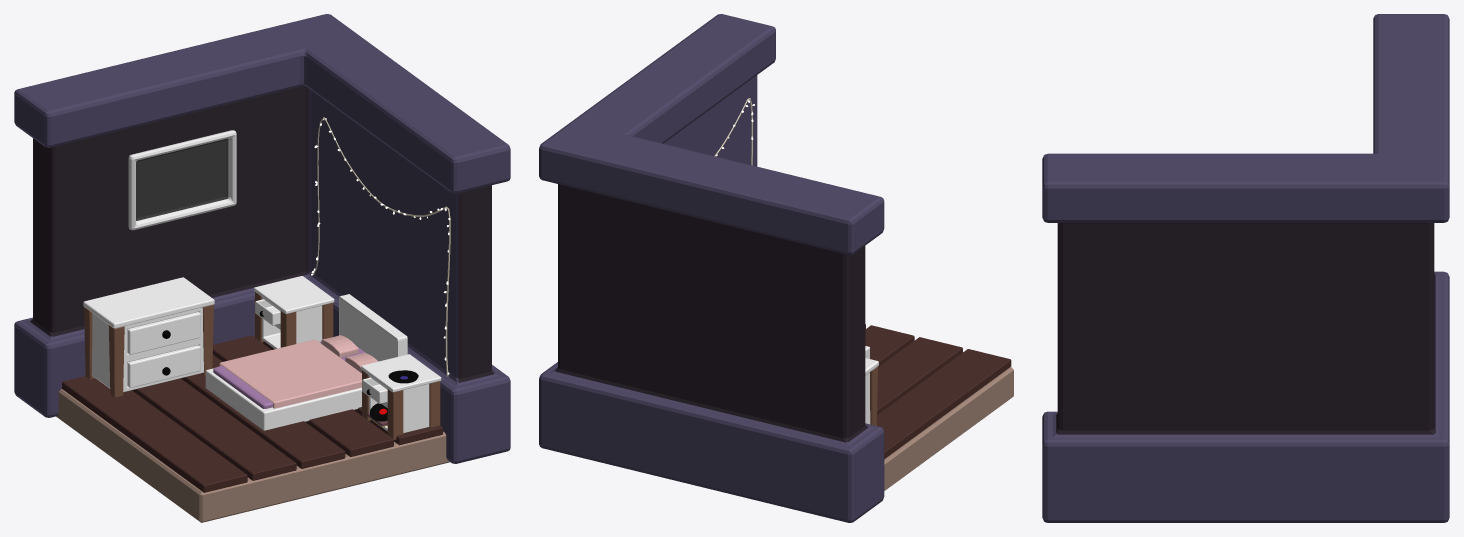
Rendered from gioRoomLight.glb.
3 renders of one model, left to right at view 1: azimuth 30°, elevation 25°; view 2: azimuth 150°, elevation 25°; view 3: azimuth 270°, elevation 25°, orthographic. The views are drawn at different scales.
Visible parts, largest first — view 1: Cube, Plane.001, Plane, Plane.015, Cube.001, Plane.005, Plane.012, Plane.010, Plane.004, Plane.003, Plane.016, Plane.011 (+3 smaller); view 2: Cube, Plane.001, Plane; view 3: Cube.
Part boxes in pixels (box(x1,y1,x2,y2)): Cube: box(14, 14, 510, 463); Plane.001: box(62, 335, 442, 492); Plane: box(56, 389, 449, 522); Plane.015: box(83, 277, 214, 392); Cube.001: box(128, 130, 236, 230); Plane.005: box(219, 339, 361, 408); Plane.012: box(254, 276, 334, 348); Plane.010: box(361, 354, 441, 433); Plane.004: box(205, 368, 361, 430); Plane.003: box(339, 294, 407, 361); Plane.016: box(84, 304, 213, 397); Plane.011: box(362, 370, 440, 440); Cube: box(539, 14, 884, 522); Plane.001: box(865, 324, 1011, 458); Plane: box(884, 367, 1013, 490); Cube: box(1042, 14, 1449, 522).
Bounding box in the file's own units: 2.16 × 2.02 × 2.16.
